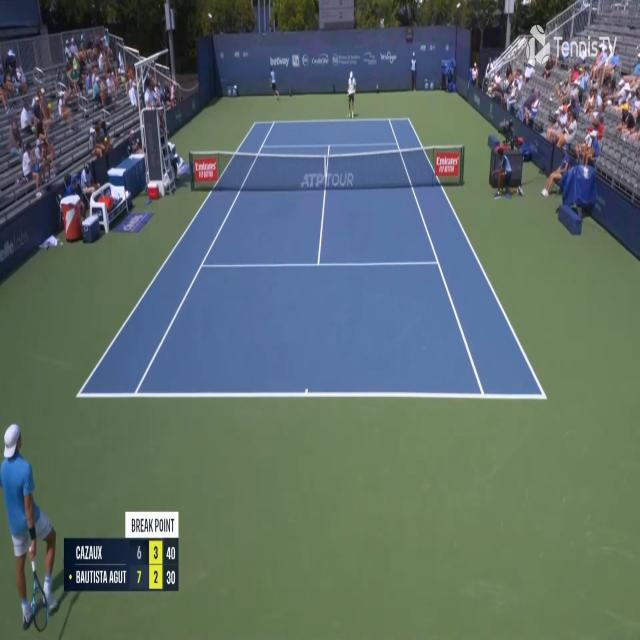tennis-player: (3, 417, 68, 637), (346, 68, 357, 119)
